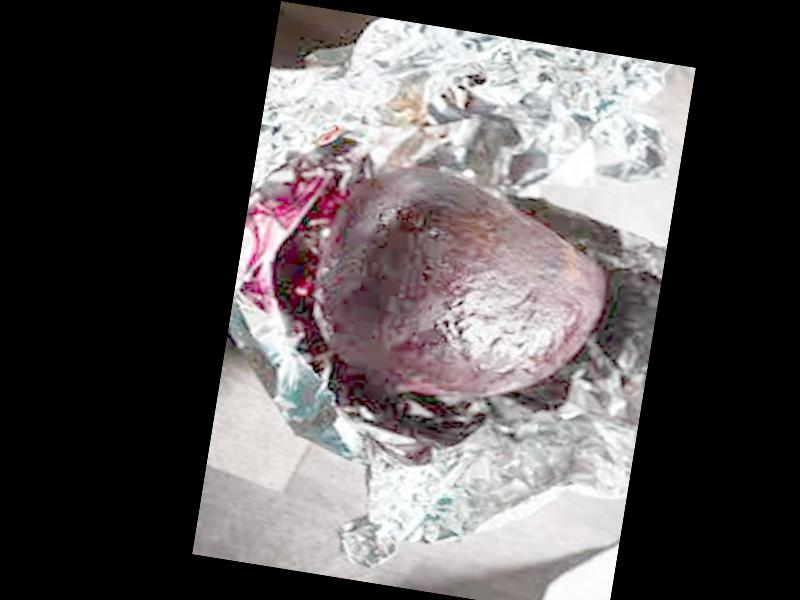Beet: (312, 154, 621, 424)
